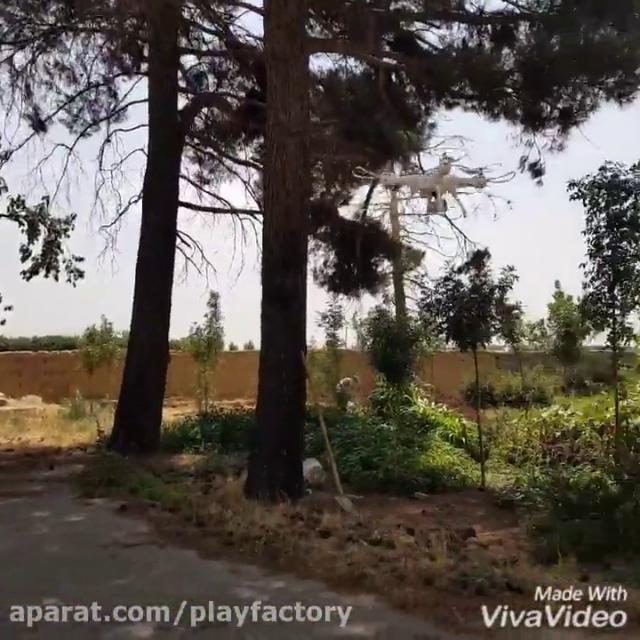drone: (352, 152, 516, 216)
